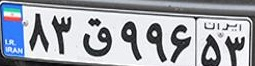character: (79, 13, 117, 60), (48, 8, 79, 57), (117, 15, 145, 64), (25, 9, 51, 56), (142, 18, 168, 65), (167, 19, 193, 66), (223, 31, 248, 66), (199, 31, 223, 66)
